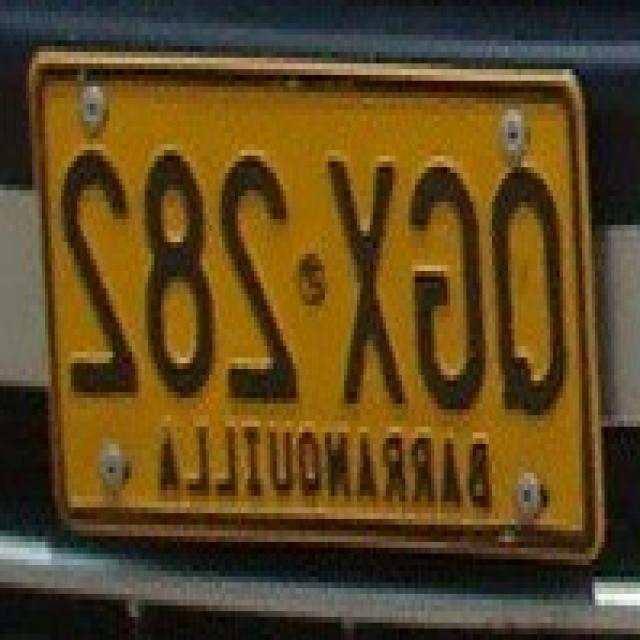placas: (45, 64, 572, 417)
